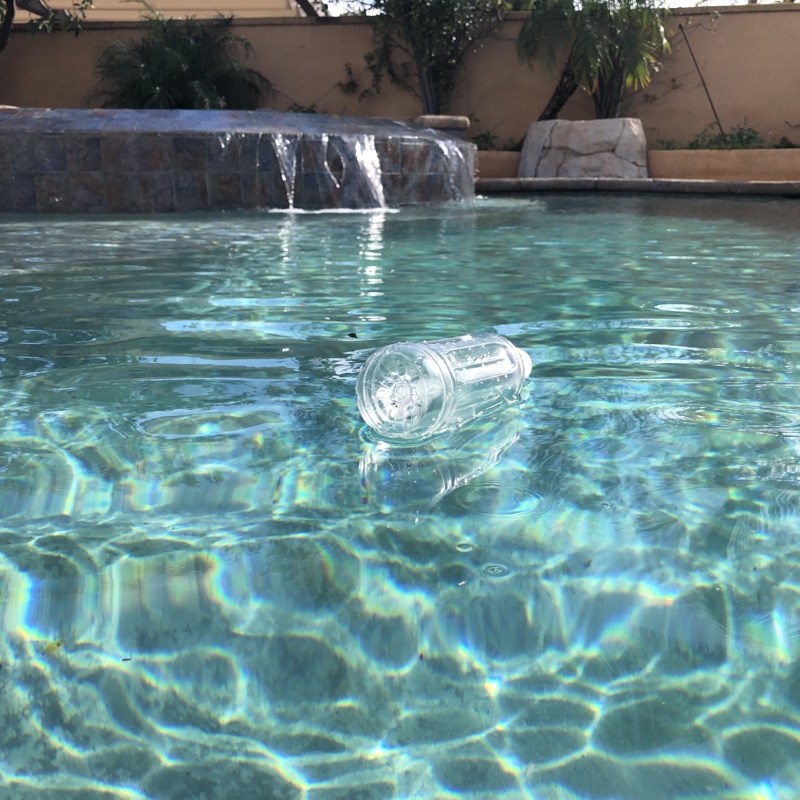Plastic Bottle: (350, 324, 537, 444)
